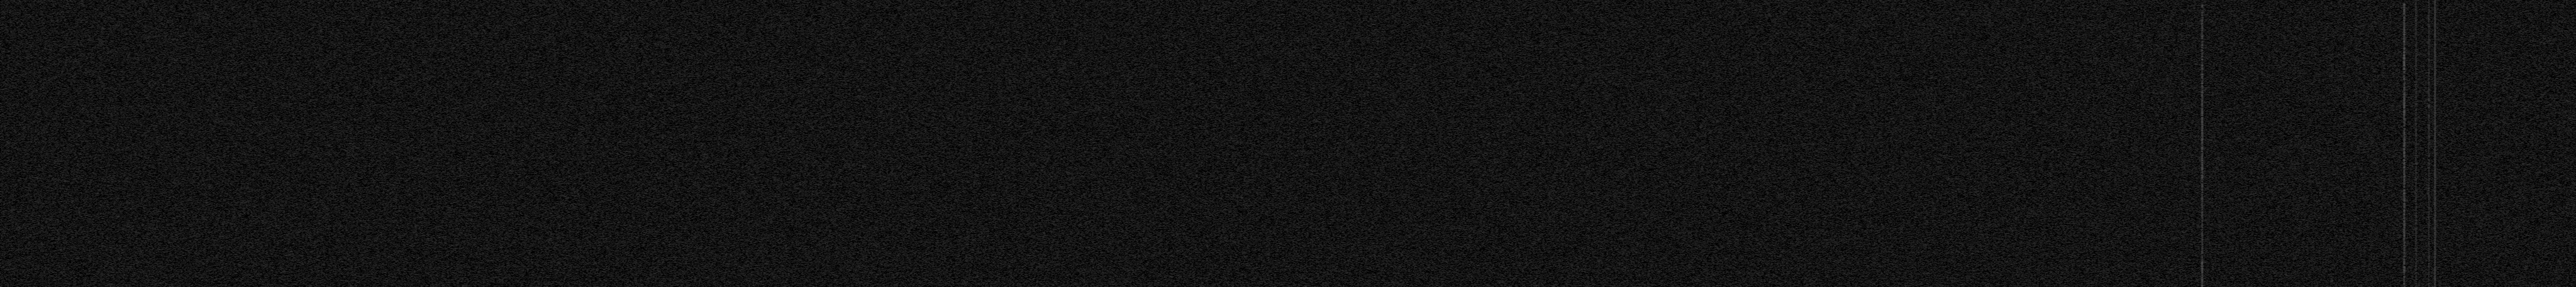wv_am: (2428, 112, 2431, 287), (2428, 0, 2431, 102), (2426, 103, 2431, 110)
wv_cw: (2433, 0, 2436, 287), (2415, 0, 2418, 287)
wv_usb: (2402, 2, 2407, 287), (2200, 3, 2205, 287)
